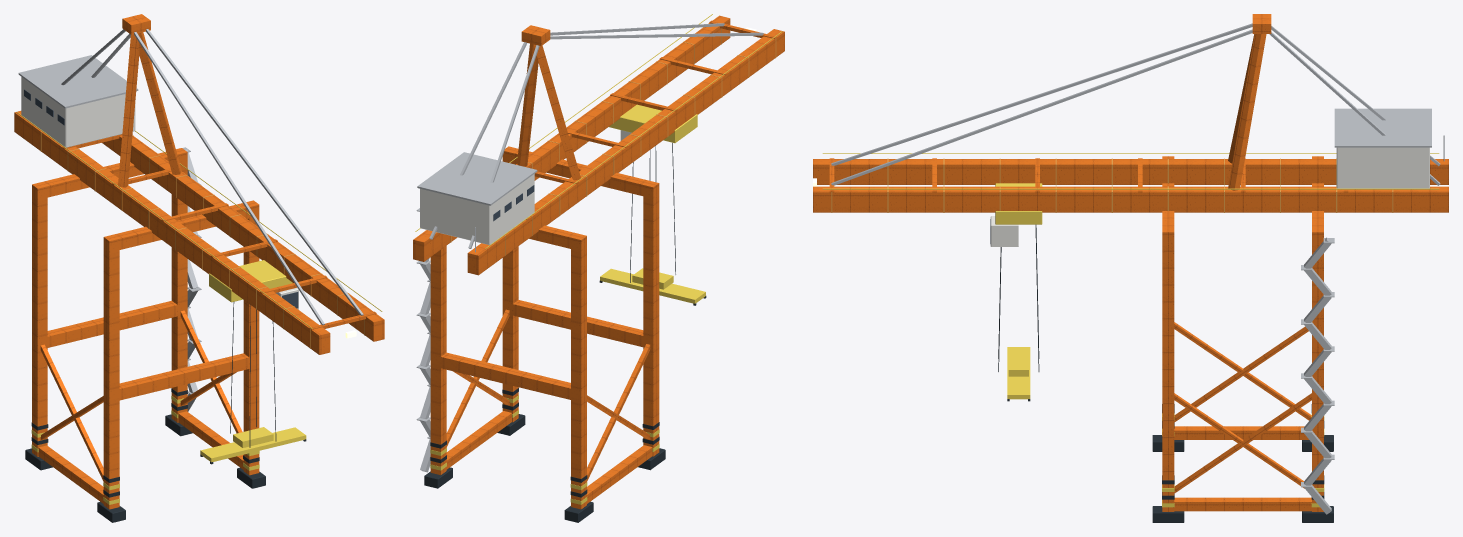
The model's file is crane.glb.
3 views of the same model, side by side, from view 1: azimuth 30°, elevation 25°; view 2: azimuth 150°, elevation 25°; view 3: azimuth 270°, elevation 25° (orthographic). The views are drawn at different scales.
Visible parts, largest first — view 1: harbor_crane; view 2: harbor_crane; view 3: harbor_crane.
Part boxes in pixels (<box>): harbor_crane: <box>14,14,384,522</box>; harbor_crane: <box>413,14,784,522</box>; harbor_crane: <box>813,14,1448,522</box>.
Bounding box in the file's own units: 20.7 × 54.9 × 68.
Materials: 8 (1 with a texture image).
